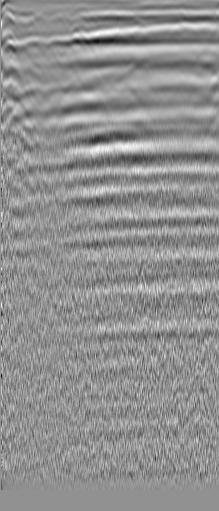오수: (27, 9, 47, 29)
우수: (173, 23, 193, 43)
